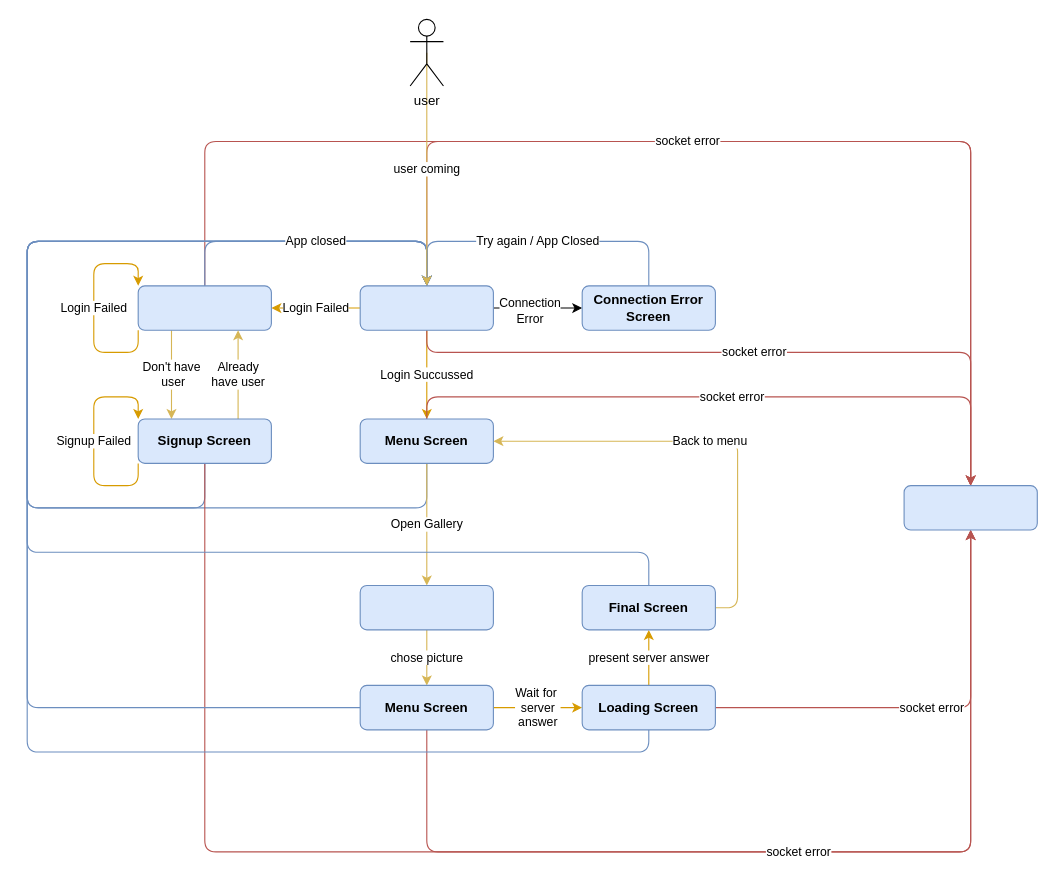
Some shapes in this 1057 by 880 pixel diagram are drawn without their labels. Here are the shapes that lost their labels. From the top down, the centre of each, then its label:
At pixel 204 307: "Login Screen".
At pixel 426 307: "Splash Screen".
At pixel 970 507: "Server Down Error Screen".
At pixel 426 607: "Gallery".
